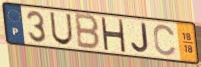3: (25, 9, 48, 44)
B: (74, 12, 101, 52)
C: (152, 24, 178, 58)
H: (100, 16, 127, 54)
J: (130, 22, 151, 55)
U: (49, 10, 74, 46)
